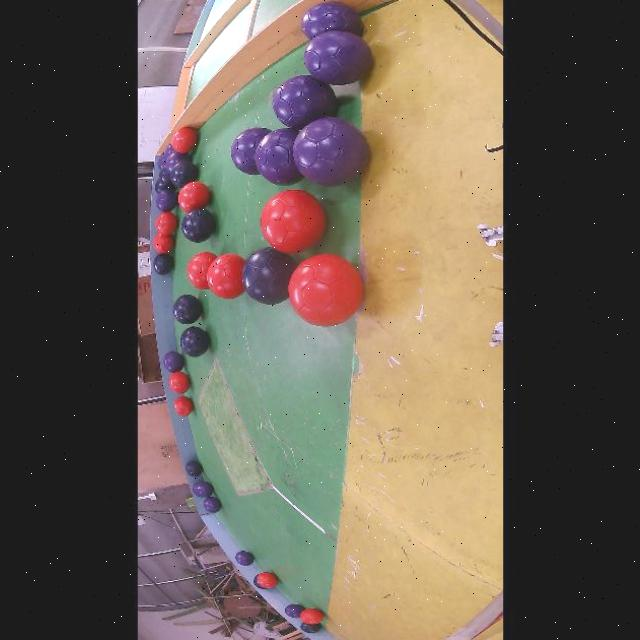B: (240, 245, 295, 305), (179, 208, 215, 242), (177, 326, 206, 357), (169, 294, 198, 323), (166, 158, 194, 186), (150, 252, 170, 275), (155, 166, 170, 185), (184, 461, 201, 477), (300, 624, 320, 635), (251, 576, 265, 591), (151, 177, 163, 192)
P: (292, 116, 369, 186), (303, 31, 371, 86), (271, 74, 336, 129), (253, 128, 305, 186), (299, 2, 360, 38), (228, 128, 269, 176), (163, 149, 186, 172), (152, 187, 174, 210), (159, 351, 180, 373), (201, 498, 220, 514), (232, 553, 251, 568), (283, 606, 303, 620), (193, 483, 211, 497), (160, 141, 171, 157), (154, 153, 163, 167), (191, 483, 195, 496)
